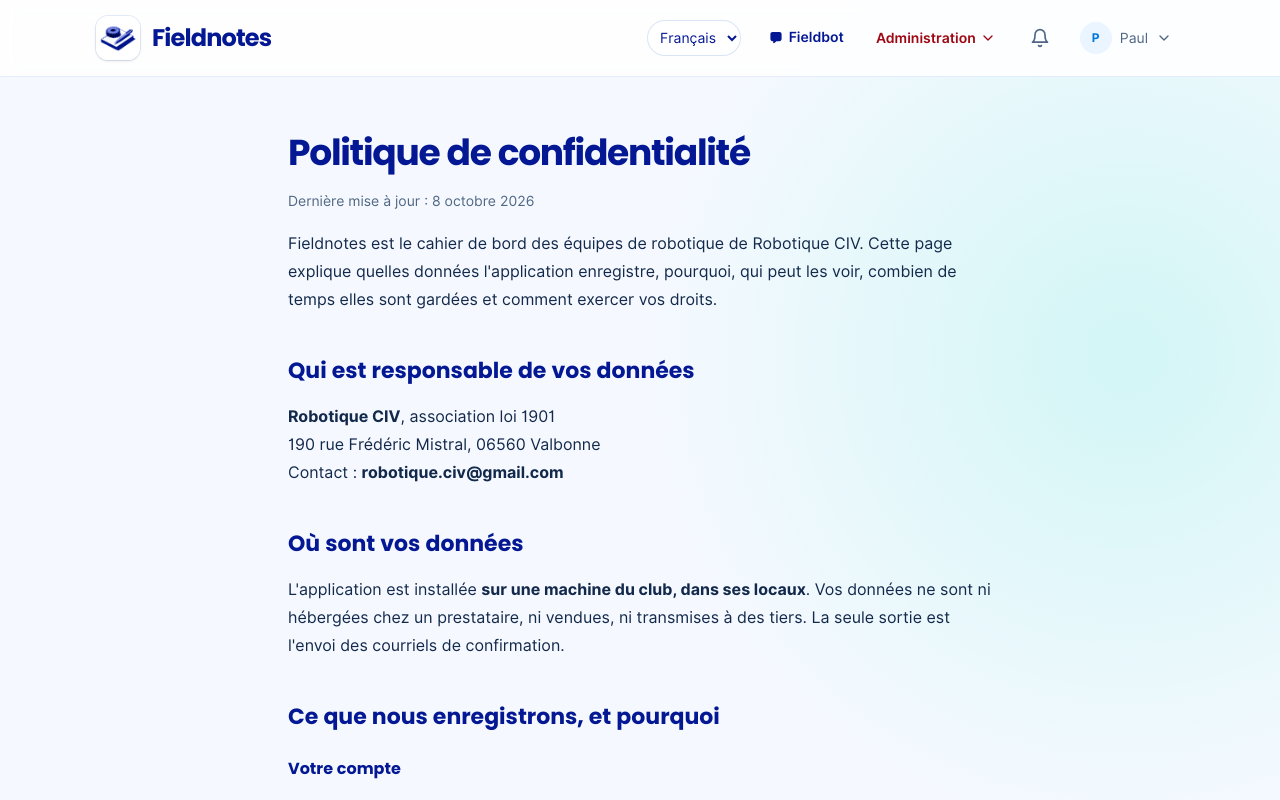
Test case: opens the account menu from the avatar, without a logout button in the bar
The image size is (1280, 800).
expect the button "Se déconnecter" is not shown: met
Click the button with aria-label "Menu du compte (Paul)" at [1130, 38], box [1076,18,1184,58]
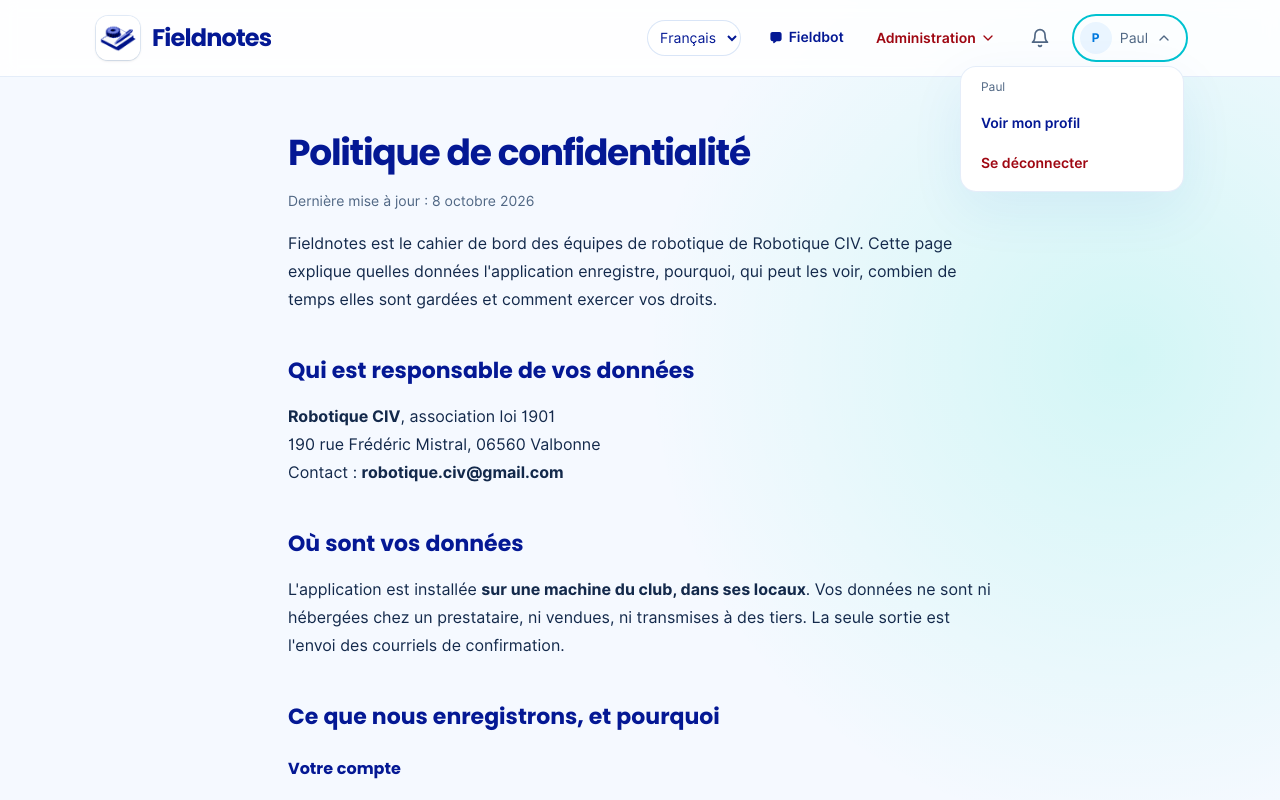
expect the button with aria-label "Menu du compte (Paul)" is expanded: met, box [1076,18,1184,58]
Click the link "Voir mon profil" at [1031, 123], box [981,115,1080,131]
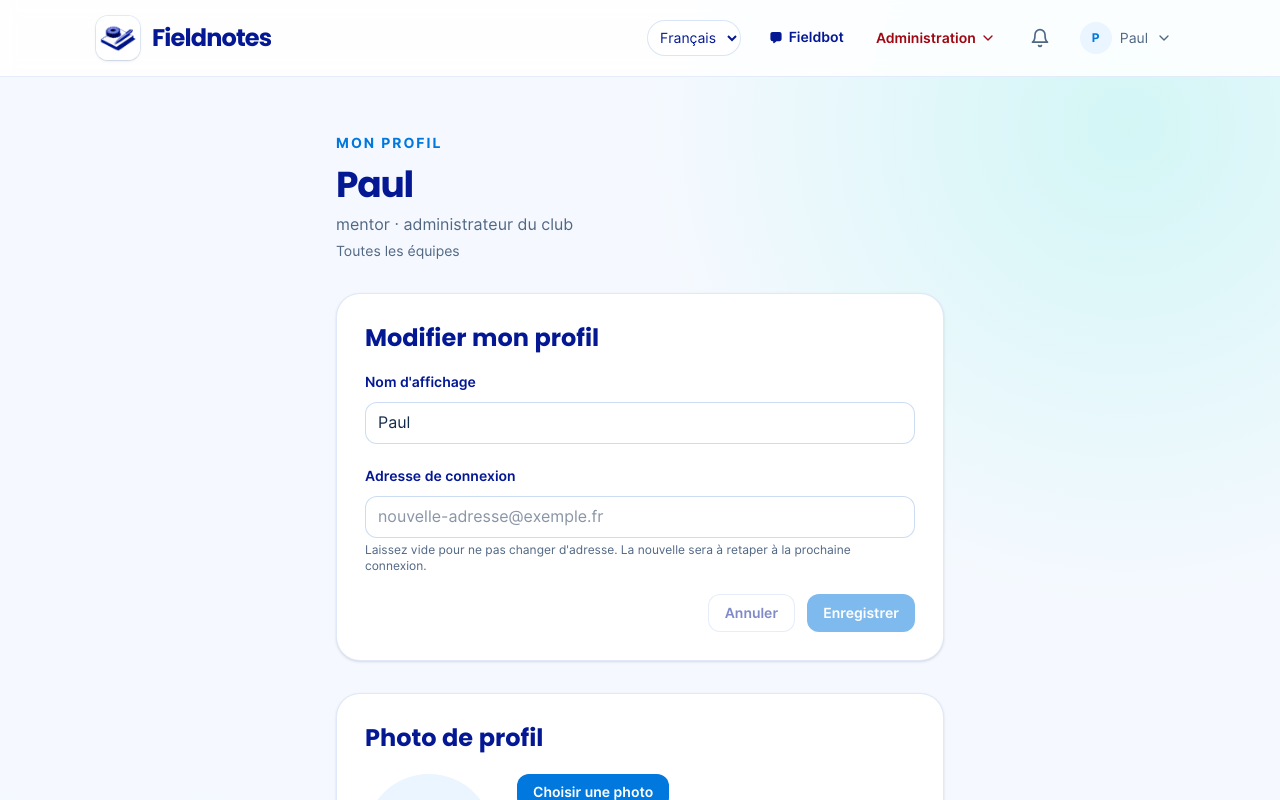
expect the link "Voir mon profil" is gone: met
